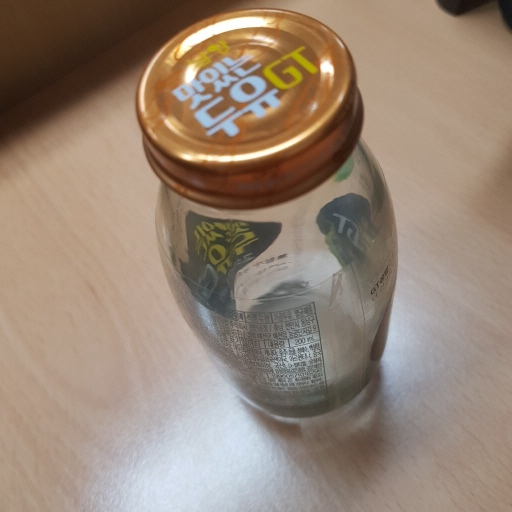Glass_4: (129, 1, 412, 445)
